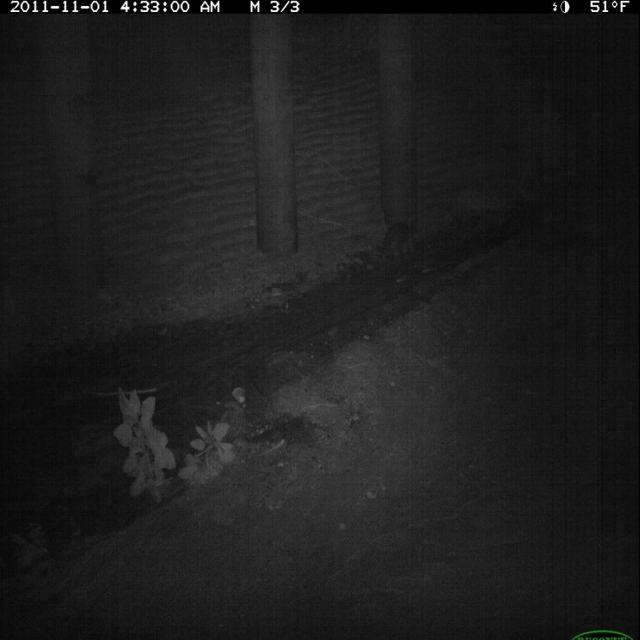raccoon: (377, 216, 425, 271)
